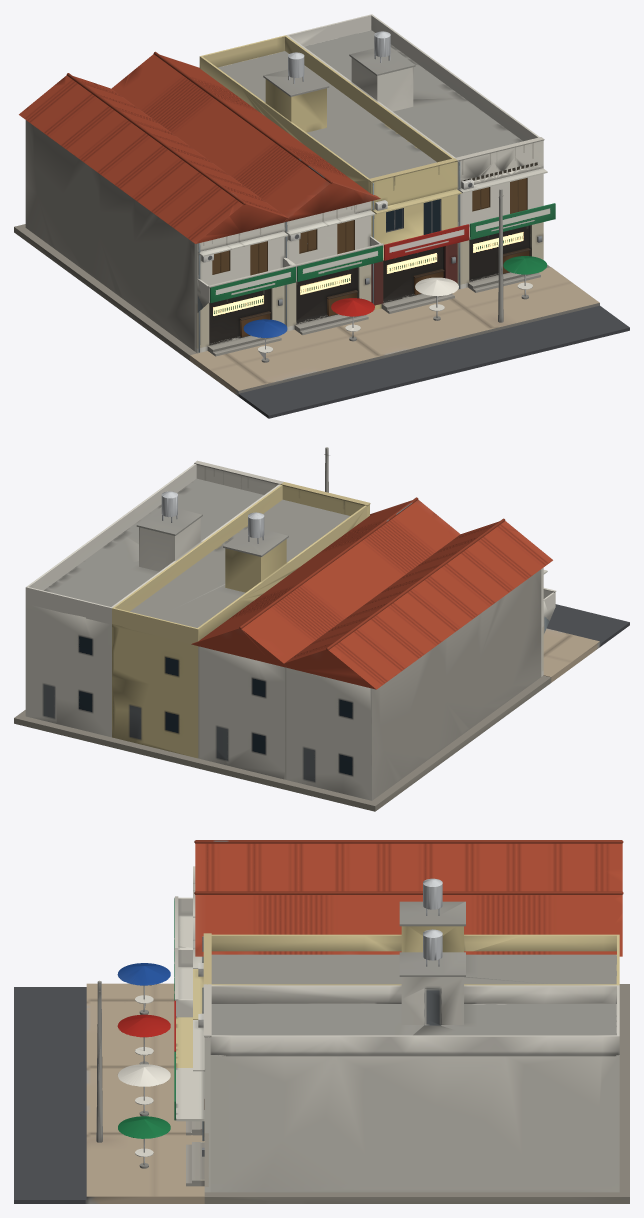
File: quang_trung_4_10.mid.glb
3 views of the same model, one above another, from view 1: azimuth 30°, elevation 25°; view 2: azimuth 150°, elevation 25°; view 3: azimuth 270°, elevation 25° (orthographic). The views are drawn at different scales.
Parts seen in each view (by area): view 1: quang_trung_4_10; view 2: quang_trung_4_10; view 3: quang_trung_4_10.
Part boxes in pixels (x1,y1,x2,y2): quang_trung_4_10: (14,14,629,418); quang_trung_4_10: (14,447,629,811); quang_trung_4_10: (14,840,629,1203).
Size of the model in its own units: 24.3 by 12.19 by 29.68.
13 materials, 13 textured.
